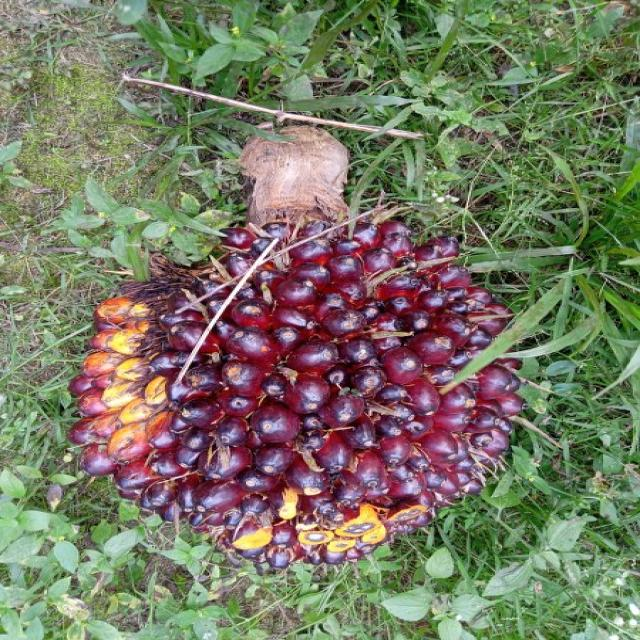fraksi 1: (58, 212, 536, 575)
